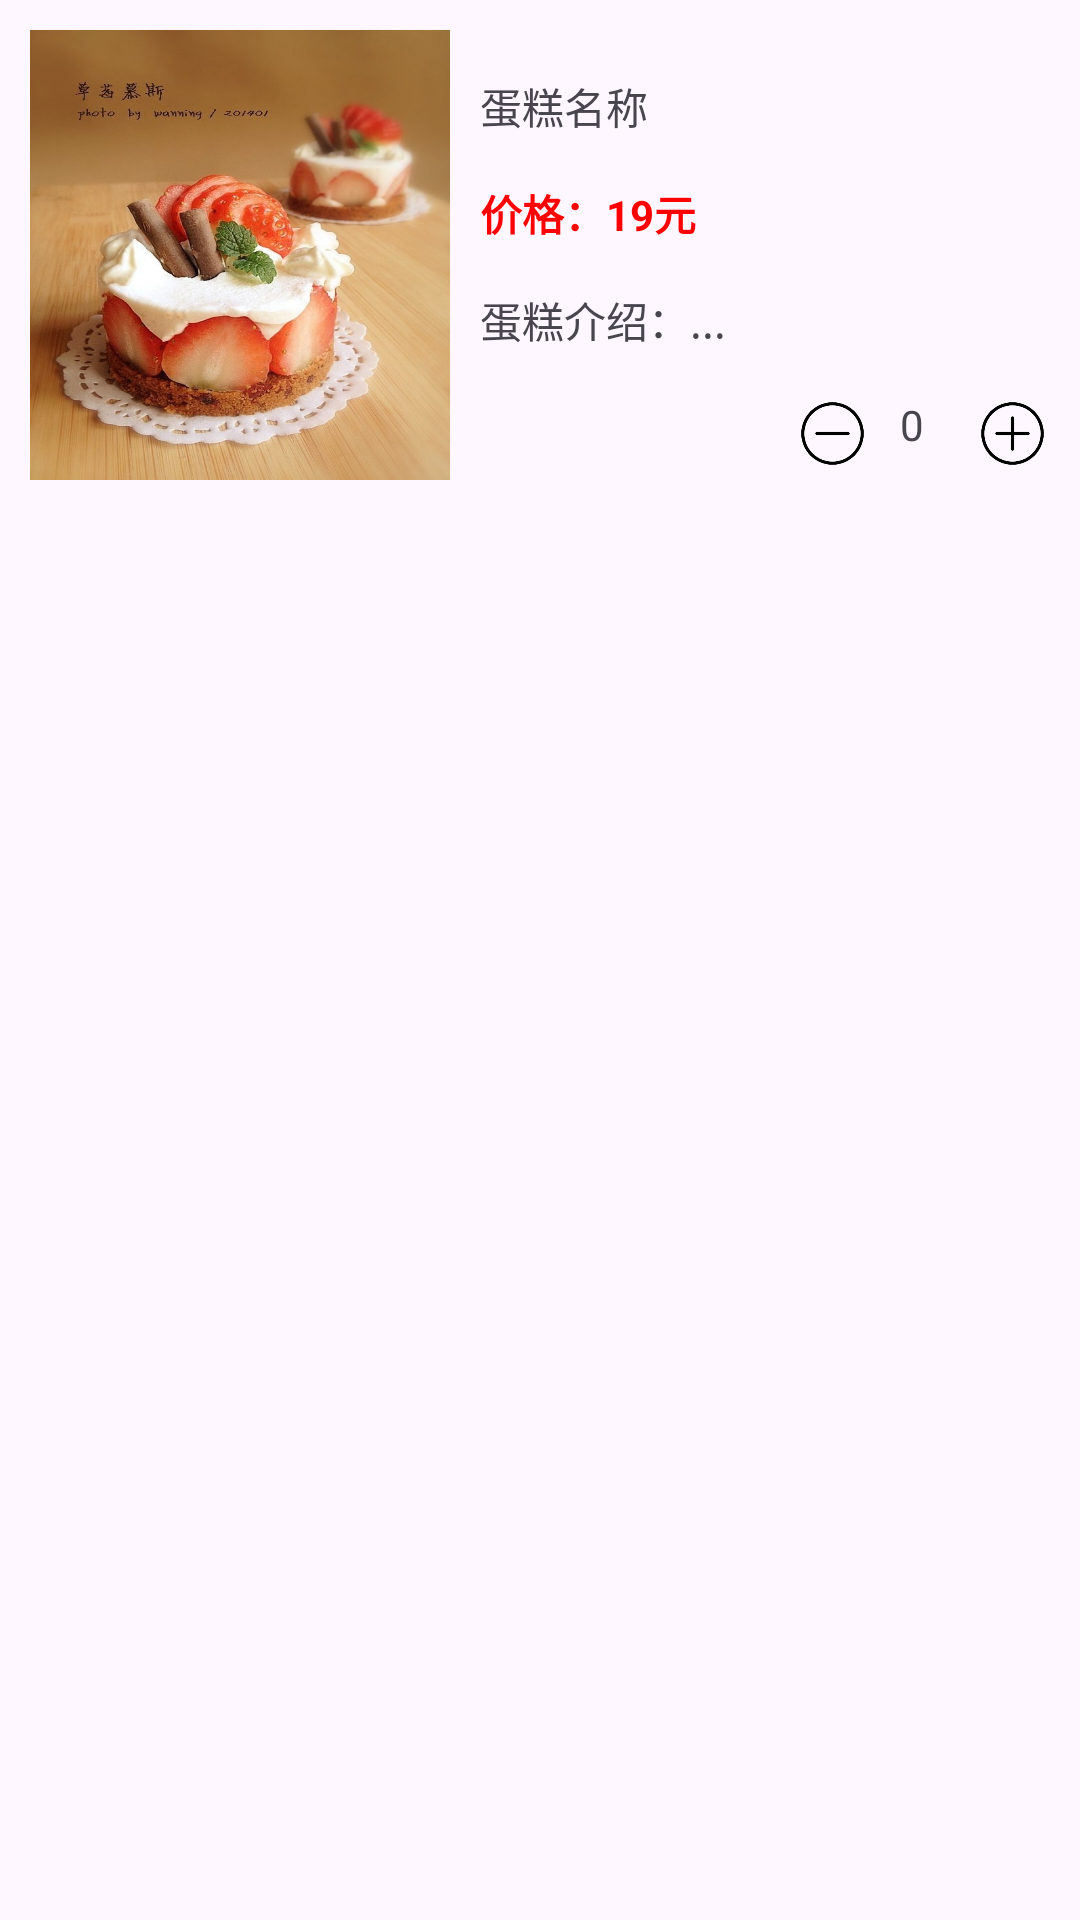

Icons on this 1080x1920 Android screen, each with the point to tap as [x,y]:
add: [1012,433]
minus: [832,433]
